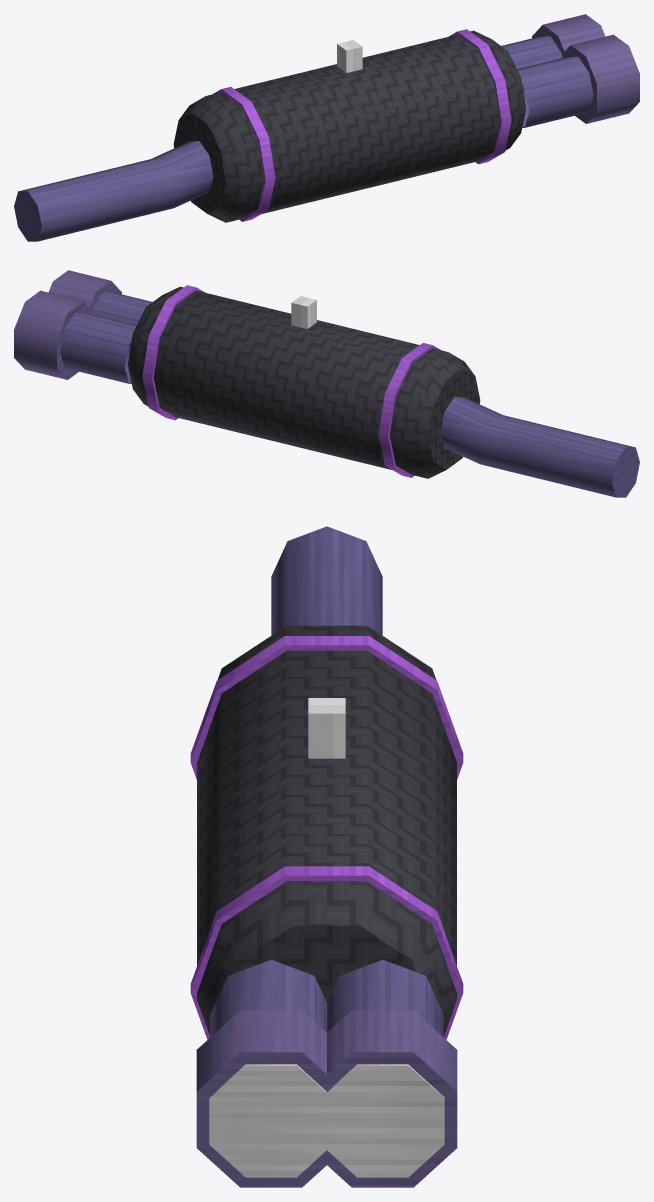
Rendered from escape_n5.glb.
The picture shows the model from 3 angles, top to bottom: view 1: azimuth 30°, elevation 25°; view 2: azimuth 150°, elevation 25°; view 3: azimuth 270°, elevation 25°; orthographic projection. The views are drawn at different scales.
Visible parts, largest first — view 1: escape_n5; view 2: escape_n5; view 3: escape_n5.
Part boxes in pixels (bbox=[...]): escape_n5: bbox=[14, 14, 639, 241]; escape_n5: bbox=[14, 270, 639, 497]; escape_n5: bbox=[190, 526, 463, 1187].
Bounding box in the file's own units: 1.08 × 0.2496 × 0.22.
4 materials, 4 textured.
